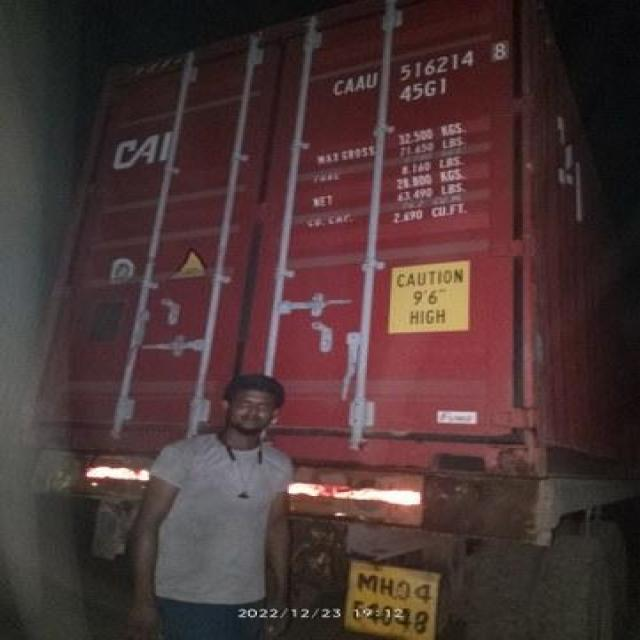ISO: (398, 78, 450, 100)
container_number: (326, 32, 508, 107)
